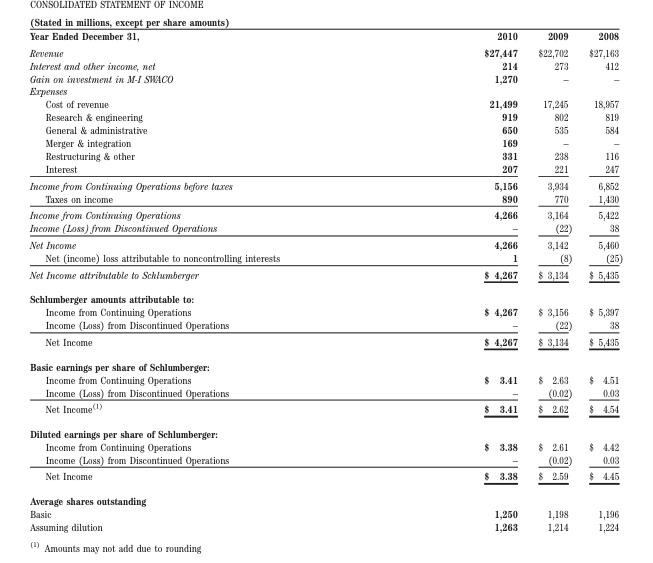table: (29, 29, 622, 532)
table column: (29, 29, 381, 532), (381, 29, 527, 532), (527, 29, 579, 532), (579, 29, 622, 532)
table column header: (29, 29, 622, 43)
table projected row header: (29, 286, 622, 305), (29, 353, 622, 372), (29, 420, 622, 439), (29, 488, 622, 506), (29, 84, 622, 97)
table row: (29, 265, 622, 286), (29, 399, 622, 420), (29, 467, 622, 488), (29, 333, 622, 353), (29, 286, 622, 305), (29, 353, 622, 372), (29, 420, 622, 439), (29, 488, 622, 506), (29, 43, 622, 58), (29, 161, 622, 176), (29, 176, 622, 191), (29, 191, 622, 206), (29, 206, 622, 221), (29, 221, 622, 236), (29, 236, 622, 251), (29, 318, 622, 333), (29, 452, 622, 467), (29, 29, 622, 43), (29, 251, 622, 265), (29, 385, 622, 399), (29, 58, 622, 71), (29, 71, 622, 84), (29, 84, 622, 97), (29, 97, 622, 110), (29, 110, 622, 123), (29, 135, 622, 148), (29, 148, 622, 161), (29, 305, 622, 318), (29, 372, 622, 385), (29, 439, 622, 452), (29, 506, 622, 519), (29, 519, 622, 532), (29, 123, 622, 135)
